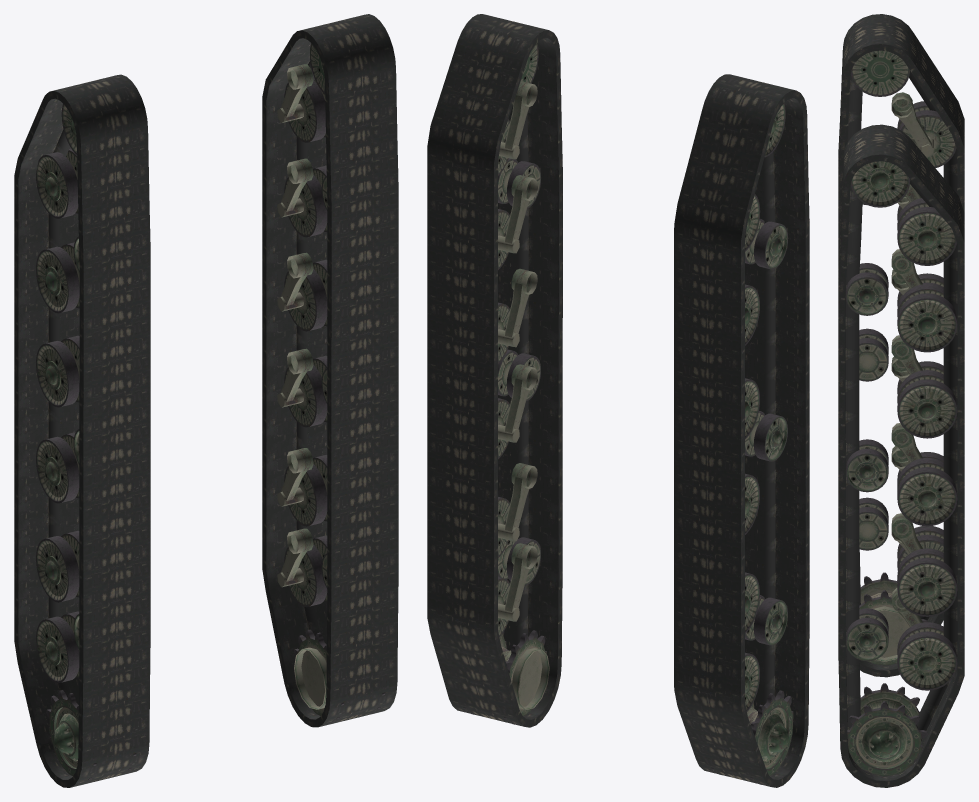
The model's file is Chassis.glb.
3 renders of one model, left to right at view 1: azimuth 30°, elevation 25°; view 2: azimuth 150°, elevation 25°; view 3: azimuth 270°, elevation 25°, orthographic. The views are drawn at different scales.
Parts seen in each view (by area): view 1: set_0_group_0, set_1_group_0, set_3_group_0, set_2_group_0; view 2: set_0_group_0, set_1_group_0, set_3_group_0, set_2_group_0; view 3: set_3_group_0, set_1_group_0, set_2_group_0, set_0_group_0.
Boxes of the visible parts, box(x1,y1,x2,y2) form: set_0_group_0: box(14, 74, 150, 787); set_1_group_0: box(262, 14, 398, 727); set_3_group_0: box(277, 43, 385, 719); set_2_group_0: box(36, 103, 136, 779); set_0_group_0: box(674, 74, 809, 787); set_1_group_0: box(427, 14, 562, 727); set_3_group_0: box(463, 43, 549, 724); set_2_group_0: box(711, 103, 793, 784); set_3_group_0: box(845, 161, 957, 776); set_1_group_0: box(838, 124, 964, 787); set_2_group_0: box(850, 50, 956, 665); set_0_group_0: box(838, 14, 964, 677).
Bounding box in the file's own units: 3.1 × 6.42 × 1.16.
4 materials, 4 textured.
